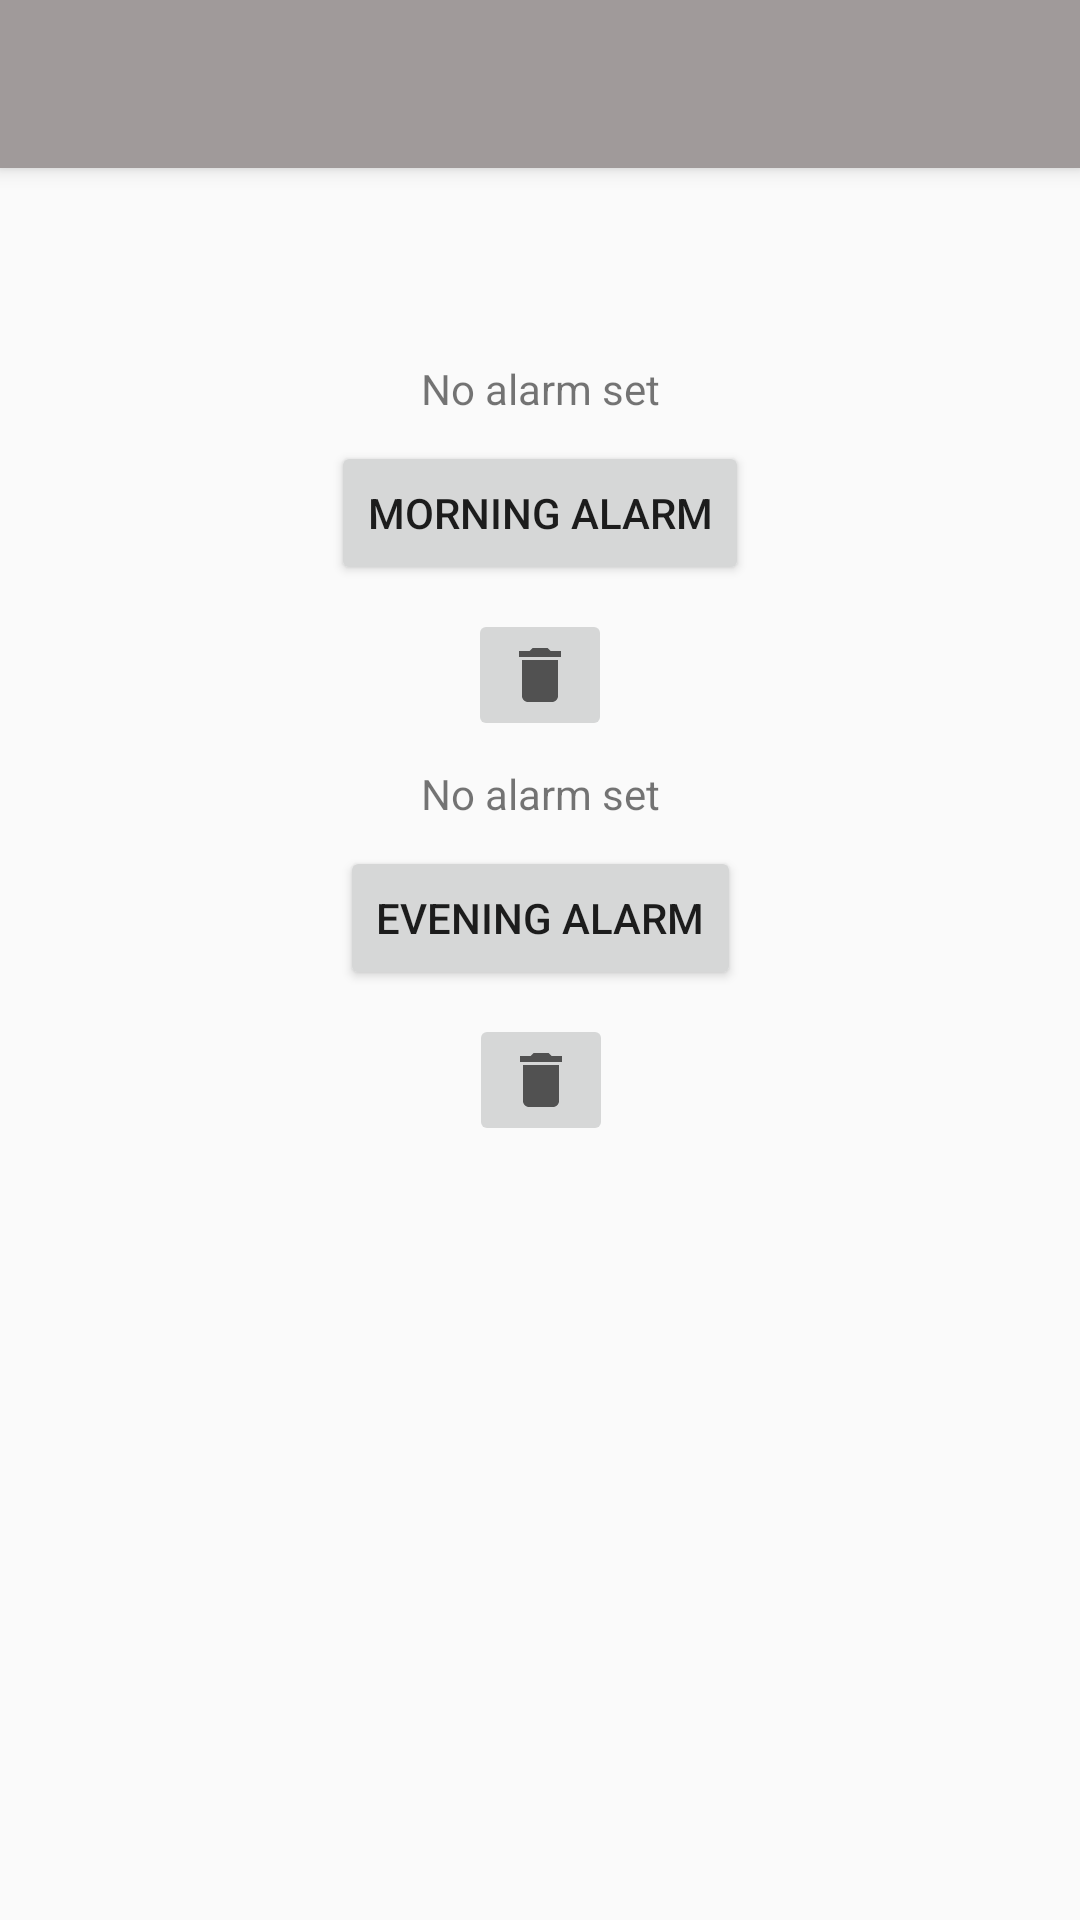

Icons on this 1080w x 1920h Android screen, each with its box as (x1, y1, x2, y2):
delete: (480, 627, 600, 723), (481, 1032, 601, 1128)
